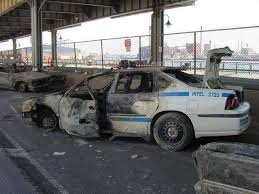Smashed: (20, 68, 191, 135), (1, 61, 53, 95)
